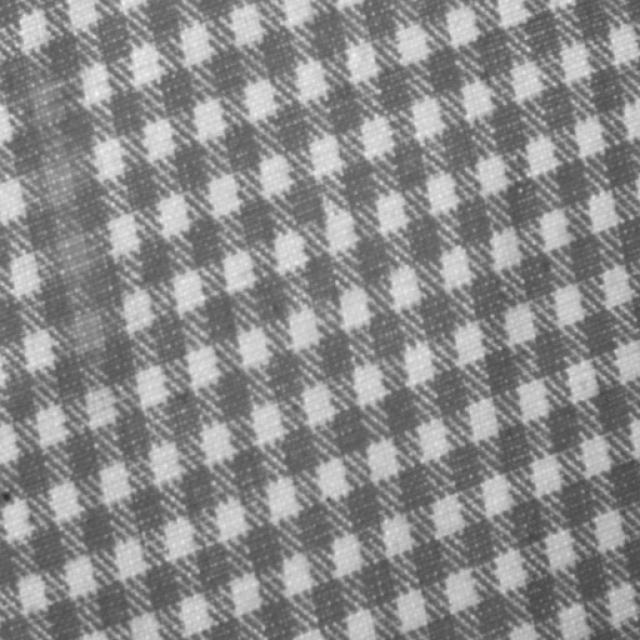Stain-Defect: (20, 69, 118, 364)
